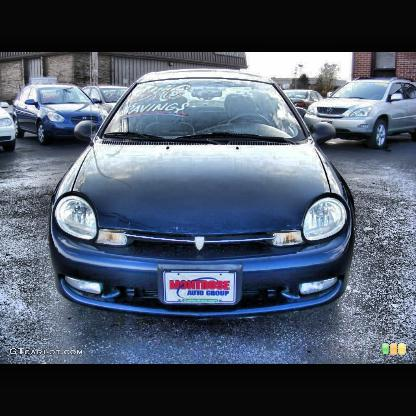Plymouth Neon Coupe 1999: (49, 69, 359, 329)
